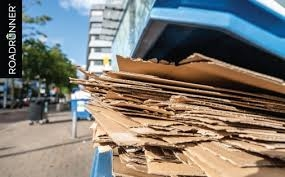paper: (74, 100, 285, 176), (66, 65, 285, 124), (112, 44, 285, 100)
